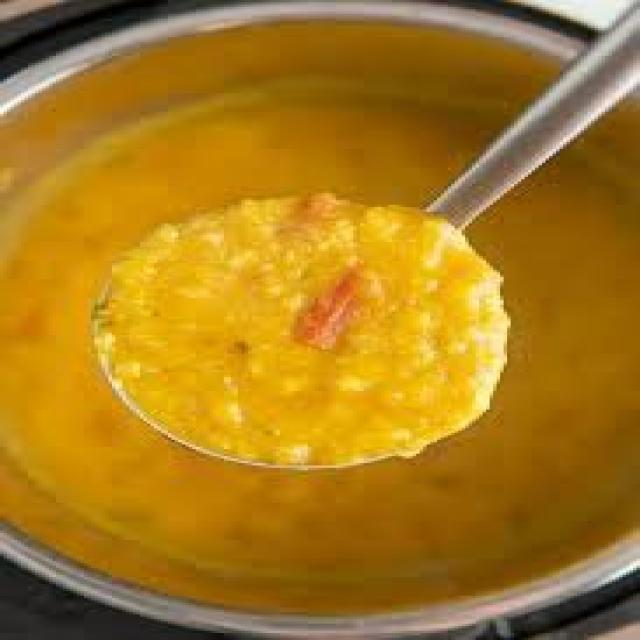dal: (17, 106, 616, 586)
